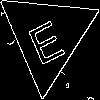E: (22, 11, 67, 67)
